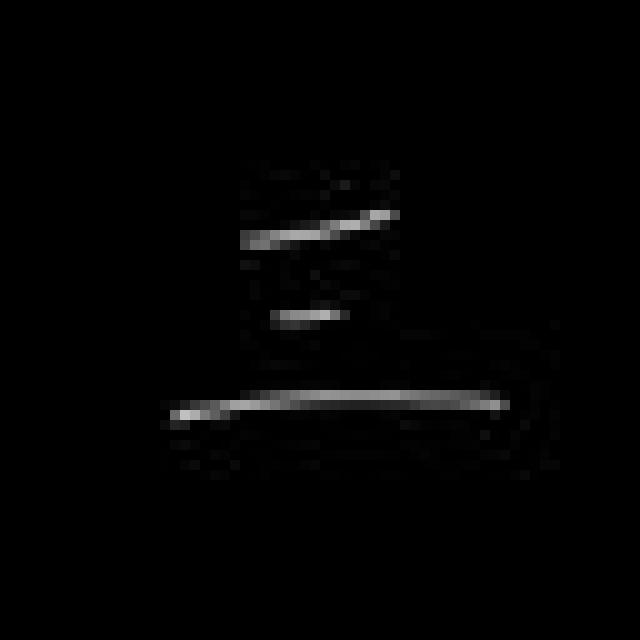3 -three-: (153, 192, 514, 437)
